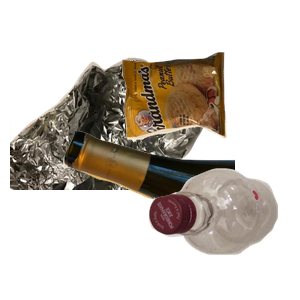glass: (60, 128, 300, 300)
metal: (10, 47, 216, 227)
plastic: (146, 166, 300, 300)
trash: (120, 50, 300, 182)
